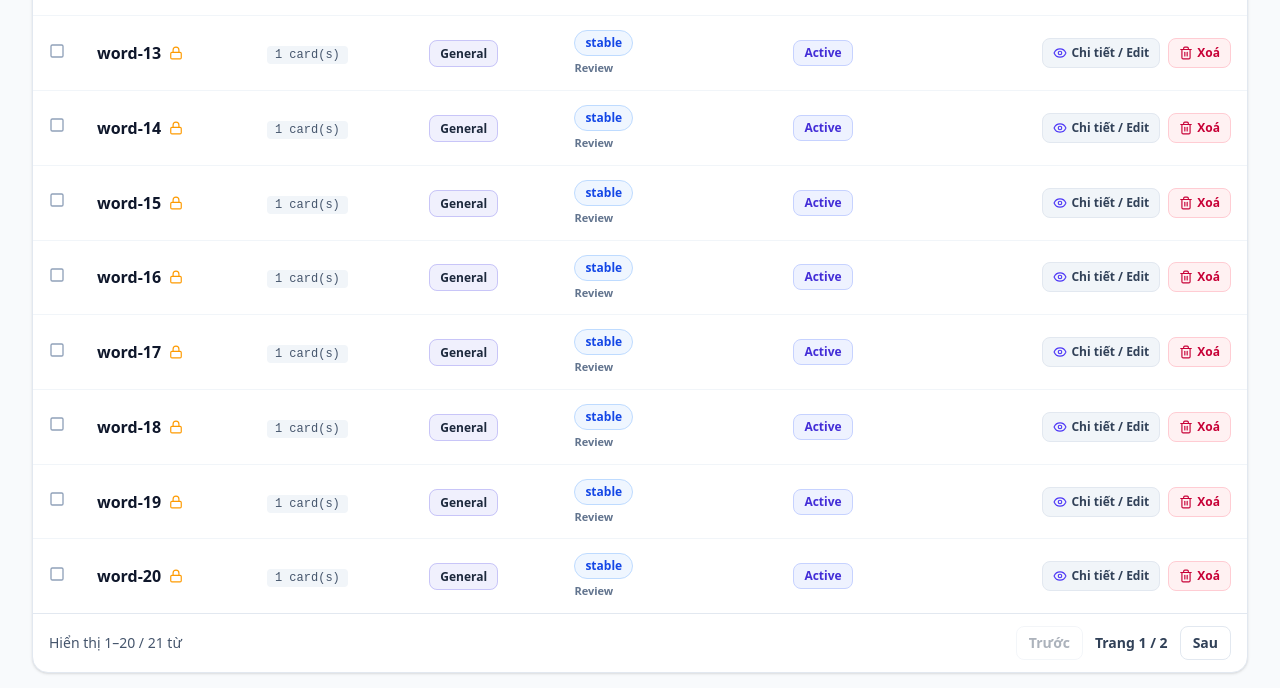
Scenario: VocabularyLibraryView › returns to page one when search changes and selects only visible rows
(page scrolled)
Click the button with aria-label "Trang sau": (1205, 643) x1=1180 y1=626 x2=1231 y2=660
(page scrolled)
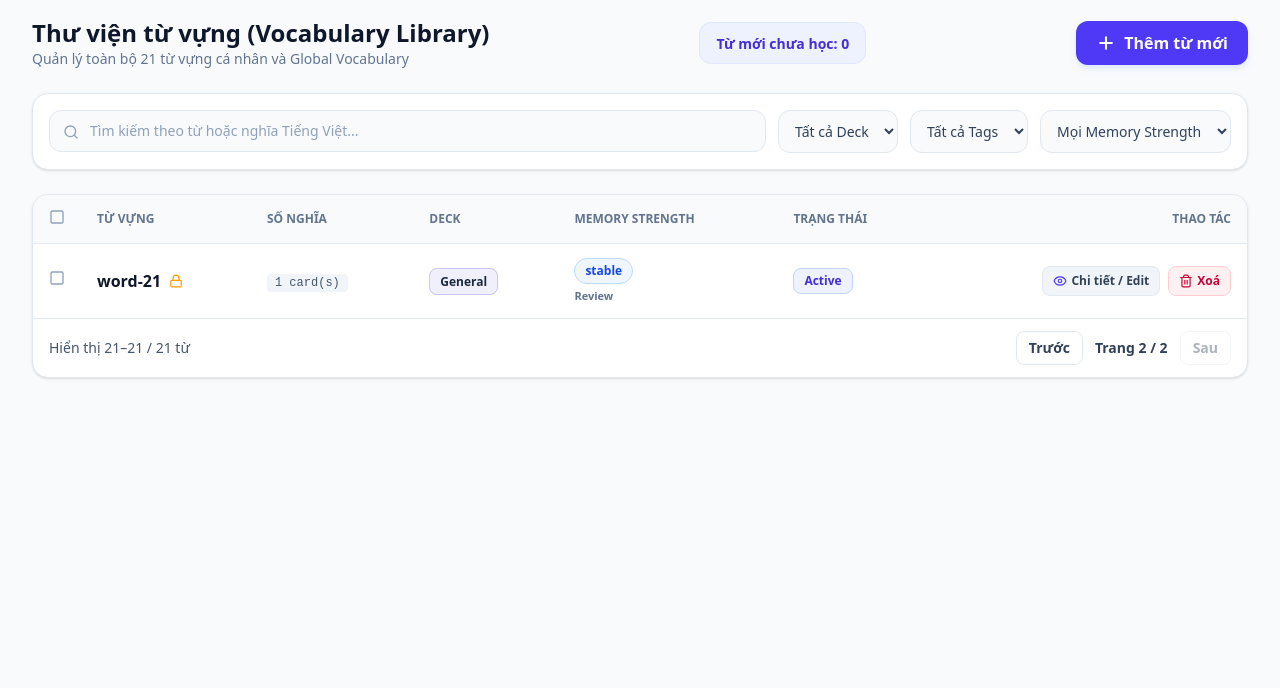
In the field: (408, 131) x1=49 y1=110 x2=766 y2=152, type "word"
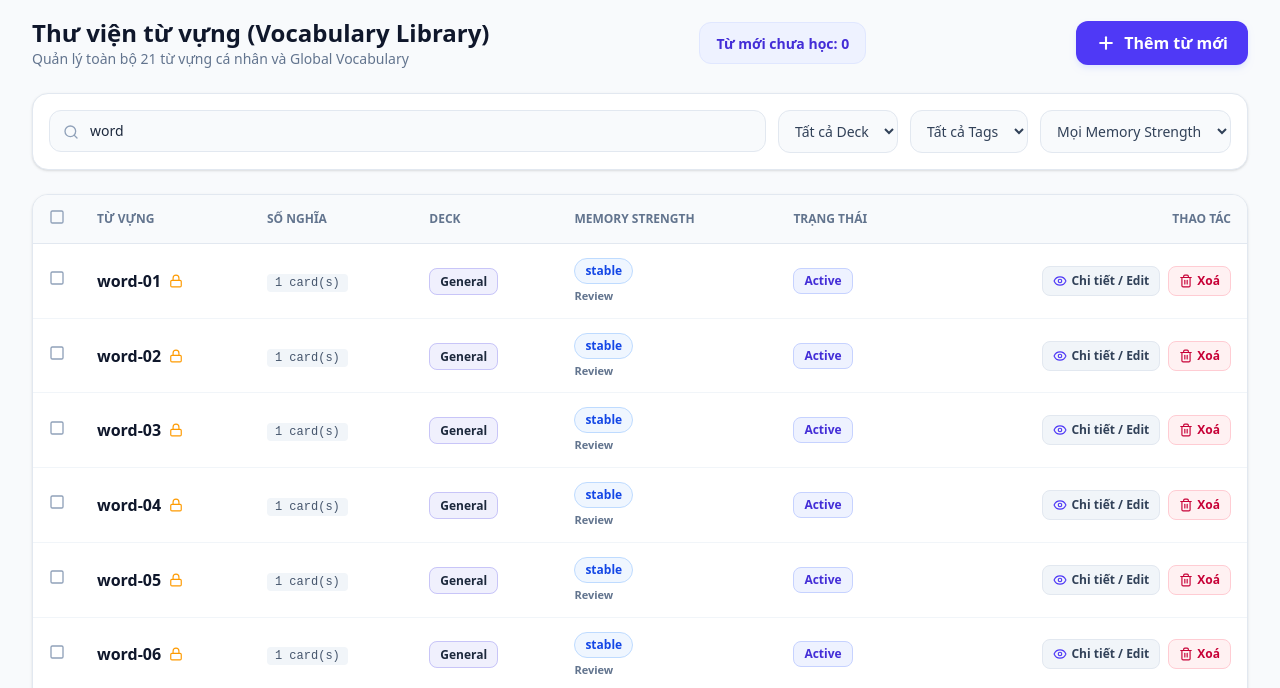
Click the button named "Chọn tất cả từ trên trang này": (57, 217) x1=49 y1=209 x2=65 y2=225
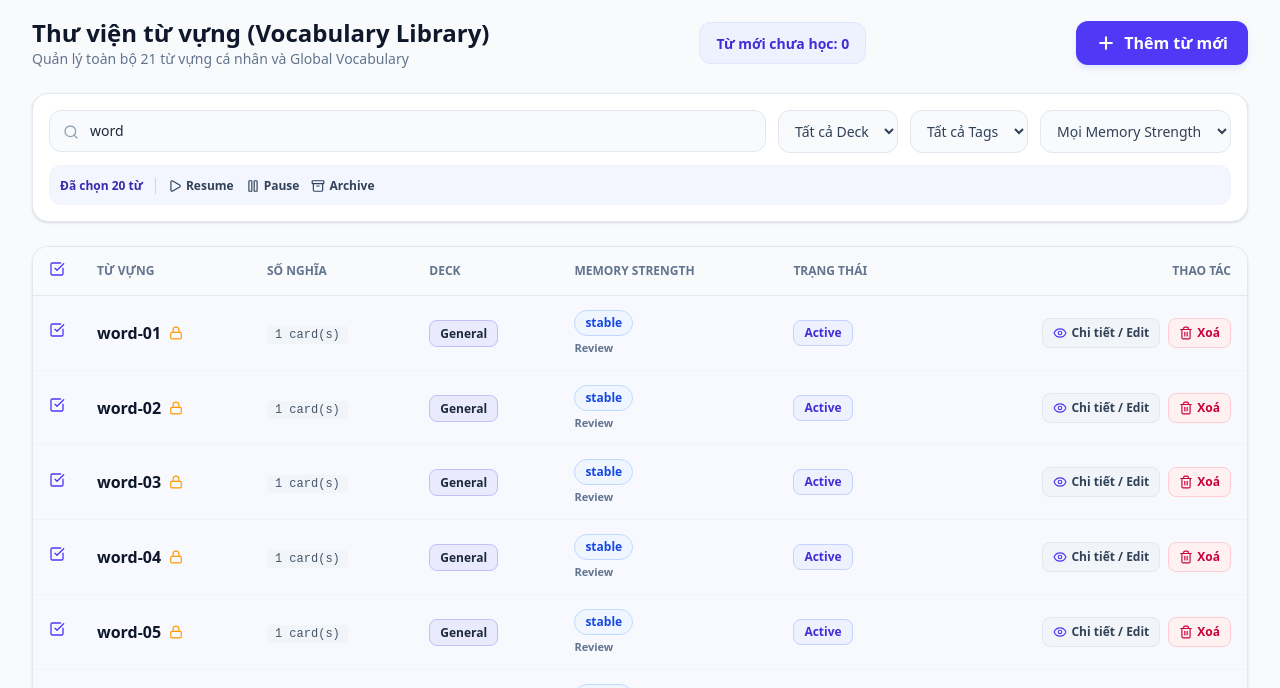
Now the text "Đã chọn 20 từ" is shown, box x1=60 y1=178 x2=143 y2=194
